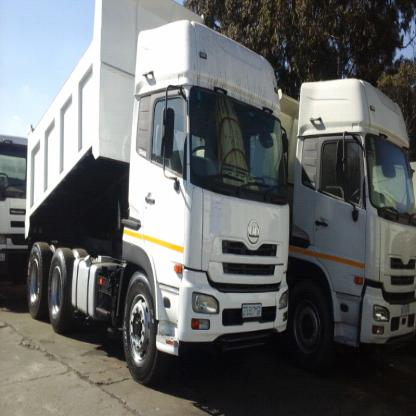dump_truck: (22, 6, 292, 370), (293, 64, 411, 358)
